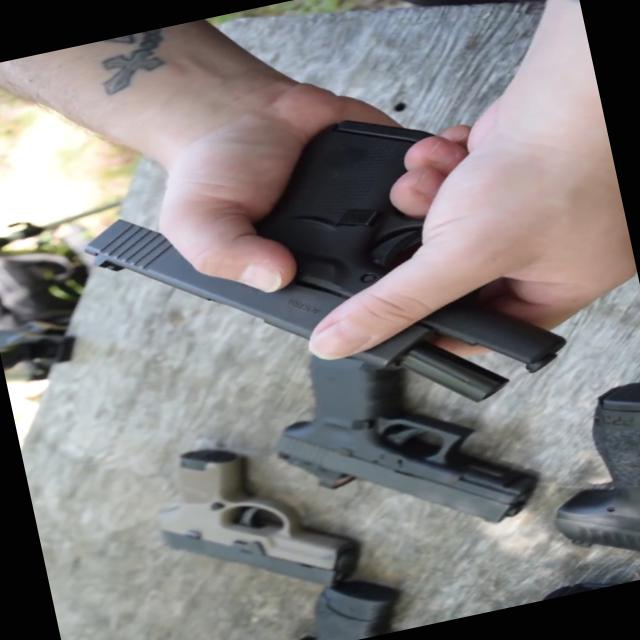handgun: (71, 54, 595, 482), (240, 286, 540, 564), (109, 393, 394, 623)
